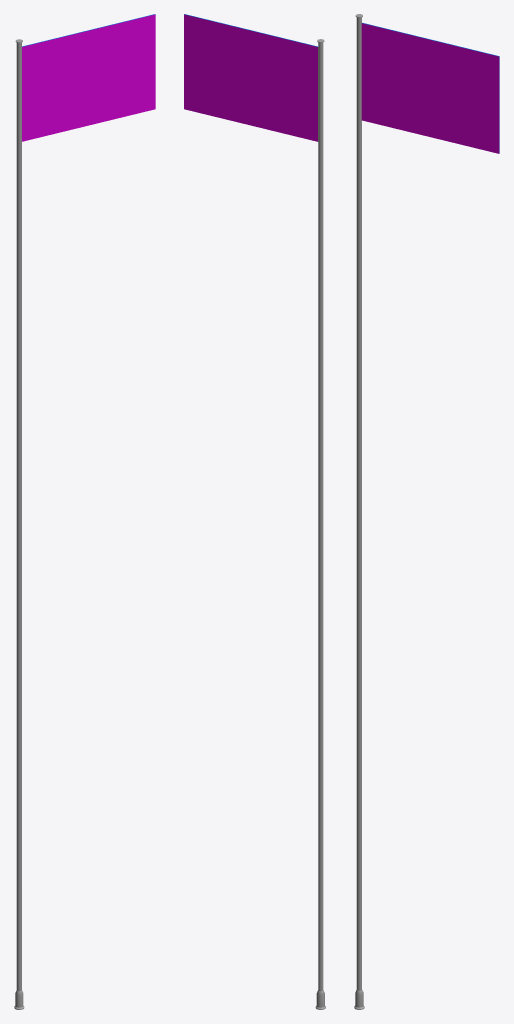
Rendered from flag_pole.fbx.
3 views of the same model, side by side, from view 1: azimuth 30°, elevation 25°; view 2: azimuth 150°, elevation 25°; view 3: azimuth 330°, elevation 25° (orthographic). The views are drawn at different scales.
Parts seen in each view (by area): view 1: flag_pole; view 2: flag_pole; view 3: flag_pole.
Boxes of the visible parts, x1=… form: flag_pole: x1=14, y1=14, x2=155, y2=1009; flag_pole: x1=184, y1=14, x2=325, y2=1009; flag_pole: x1=354, y1=14, x2=499, y2=1009.
Bounding box in the file's own units: 310 × 2037 × 19.41.
